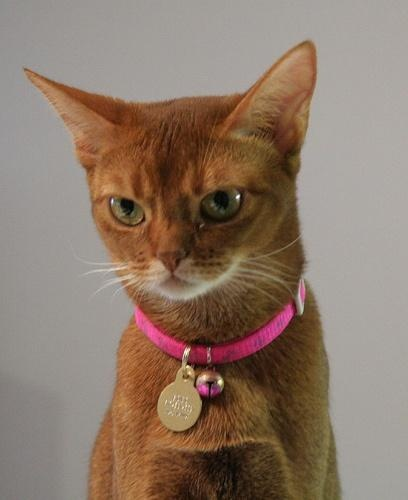cat: (13, 36, 350, 500)
